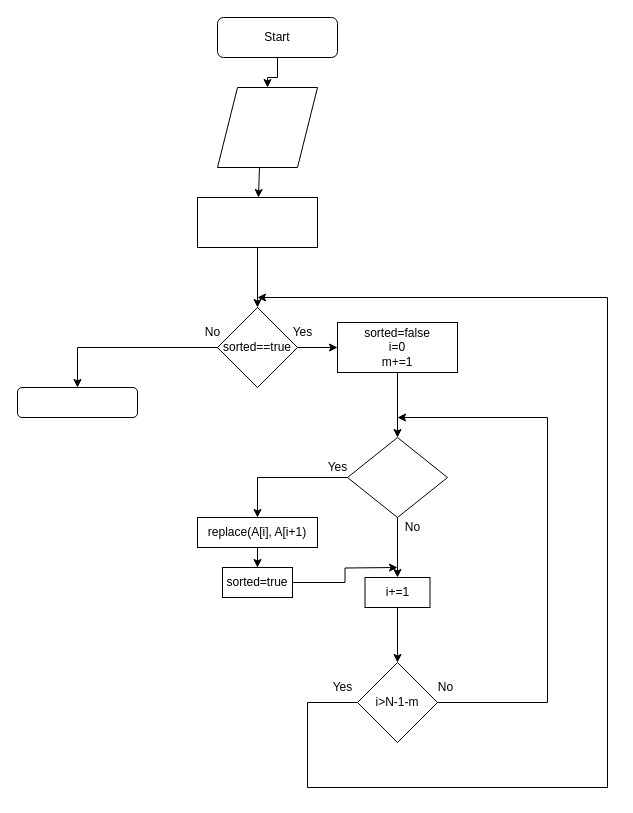
This 633x813 diagram has some shape labels left out. Each missing label, with the box of its shape:
A[i]>=A[i+1]: (346, 436, 448, 518)
arr{n......N}: (216, 86, 318, 168)
sorted = true N = arr.length m=0: (196, 196, 318, 248)
Sorted!: (16, 386, 138, 418)
